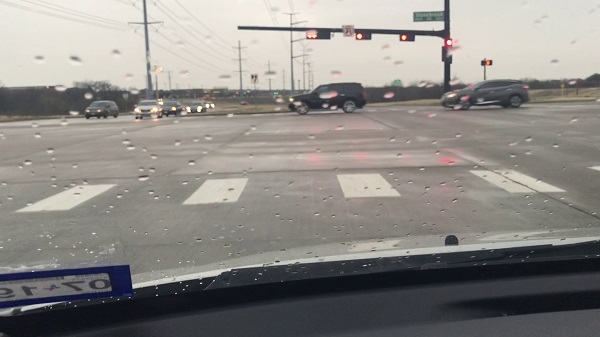car: (439, 78, 529, 112), (289, 81, 368, 114), (84, 100, 119, 117), (134, 100, 159, 117), (187, 100, 206, 113), (164, 100, 180, 114)
